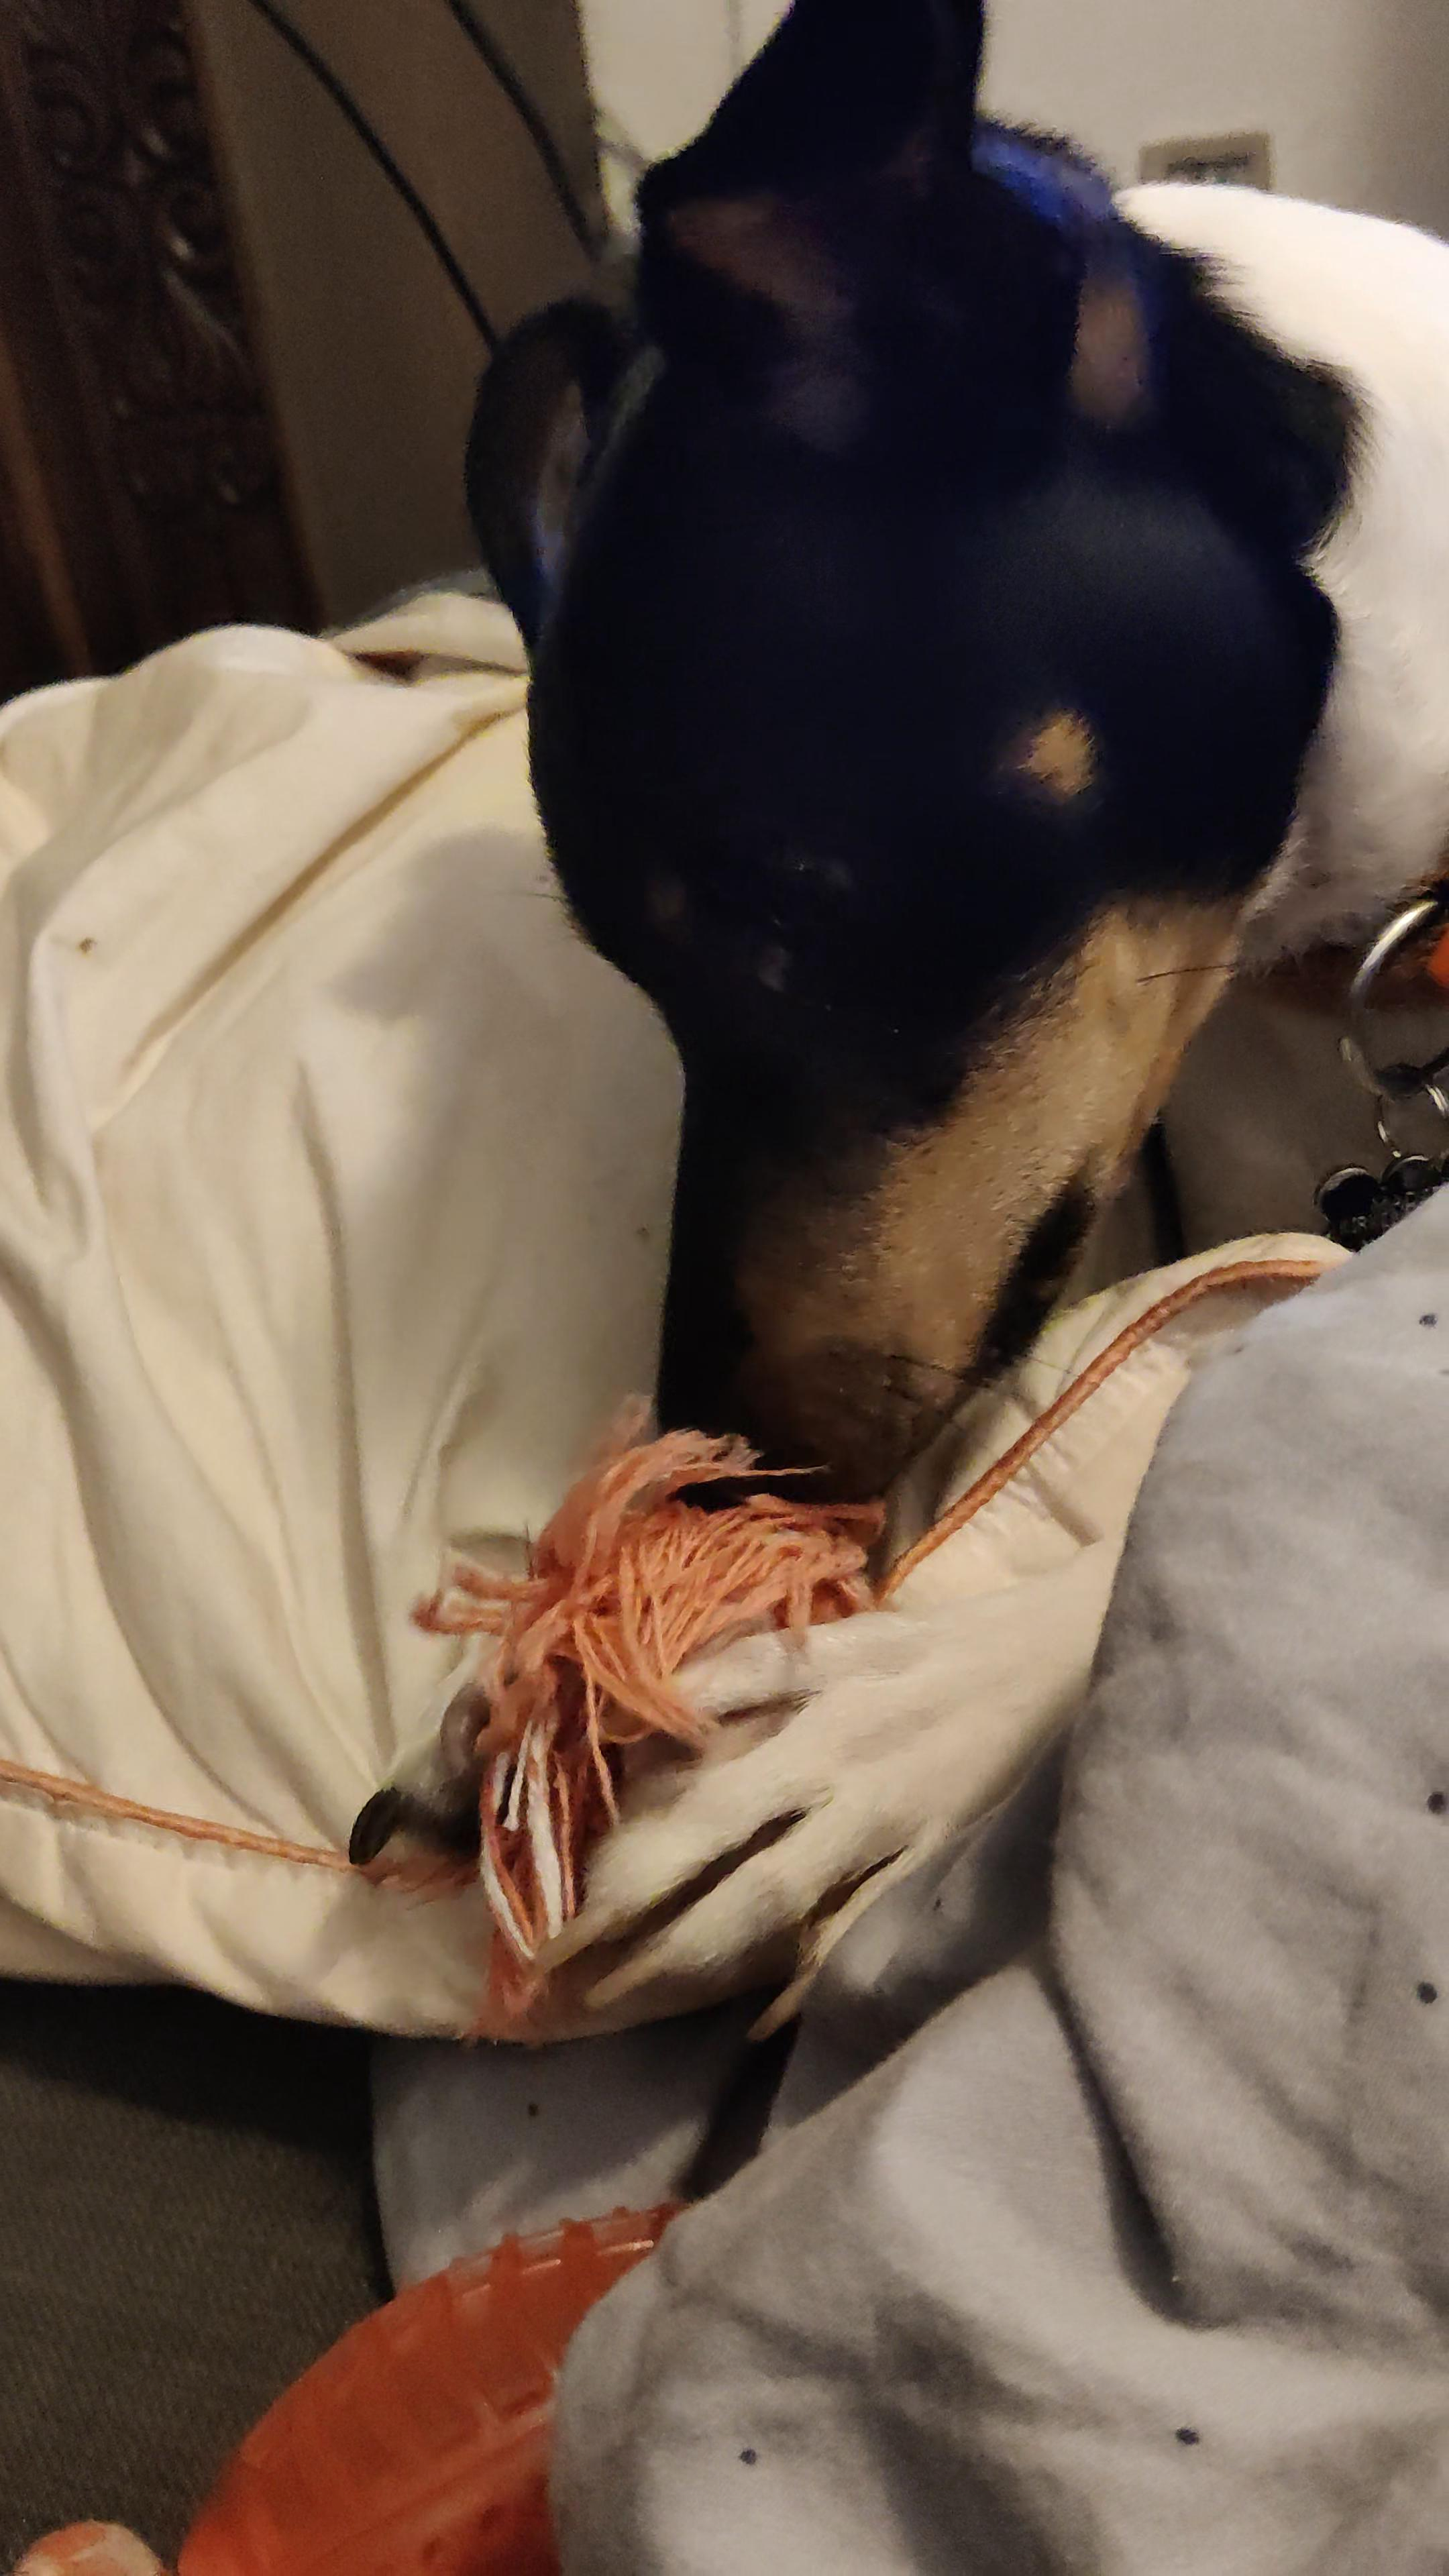Dog: (318, 0, 1449, 2059)
